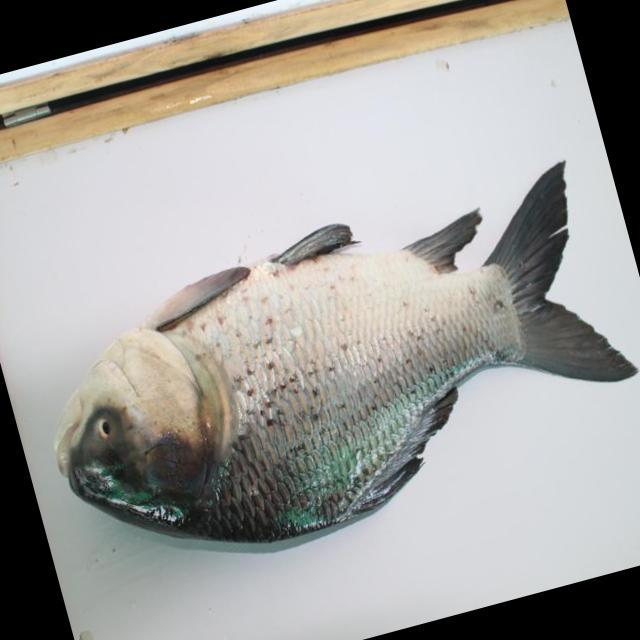Catla: (50, 168, 640, 548)
